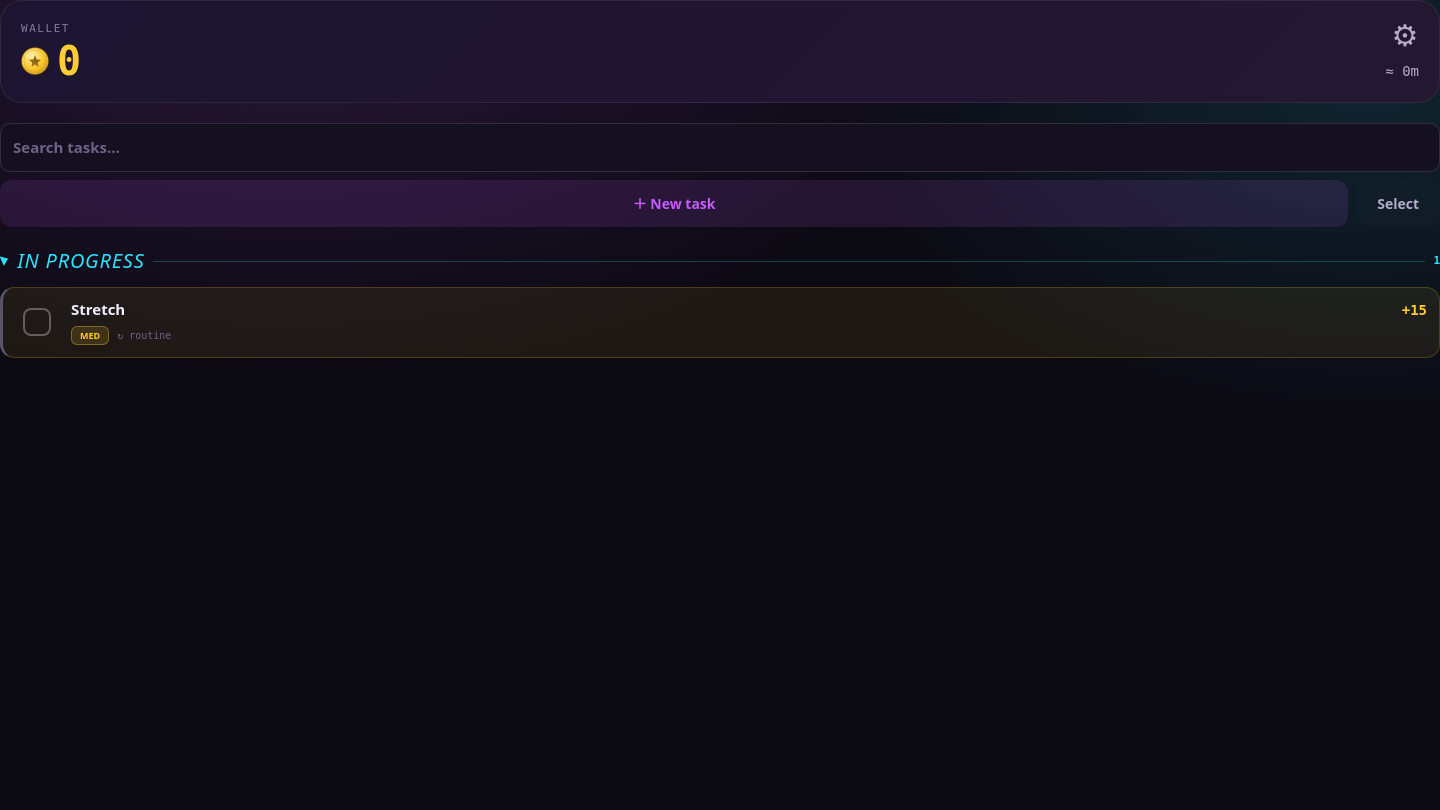
Test: a routine started today › is In progress, and the button offers to stop it
The width and height of the screenshot is (1440, 810).
Click the button "Stretch" at (98,309), box [71,300,1390,318]
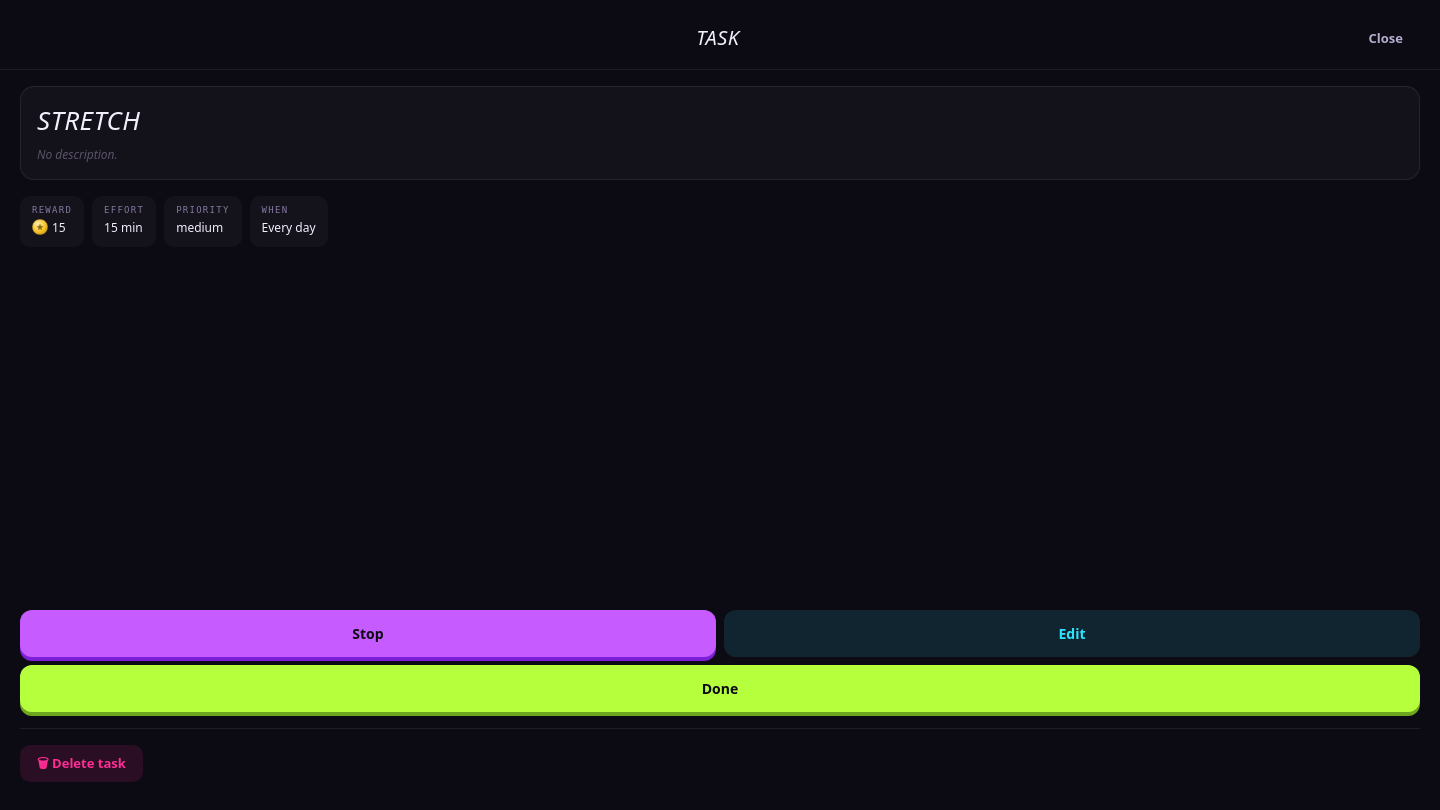
Expected: the button "Stop" is shown, [20,610,716,657]
